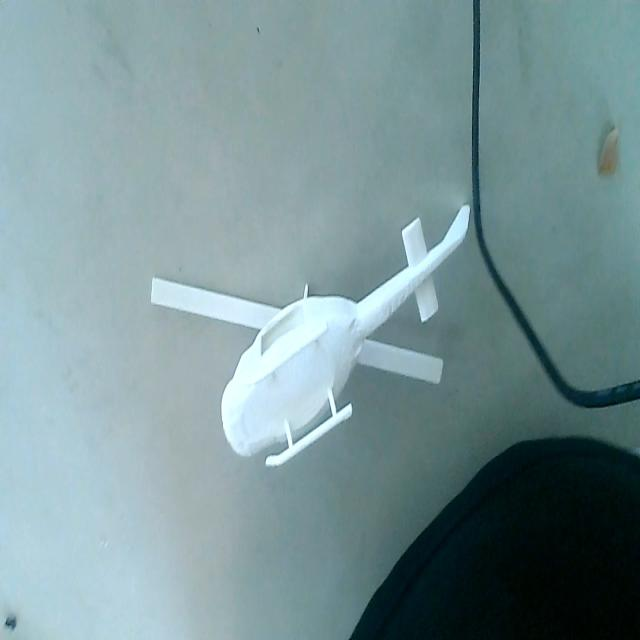Helicopter: (150, 200, 470, 471)
